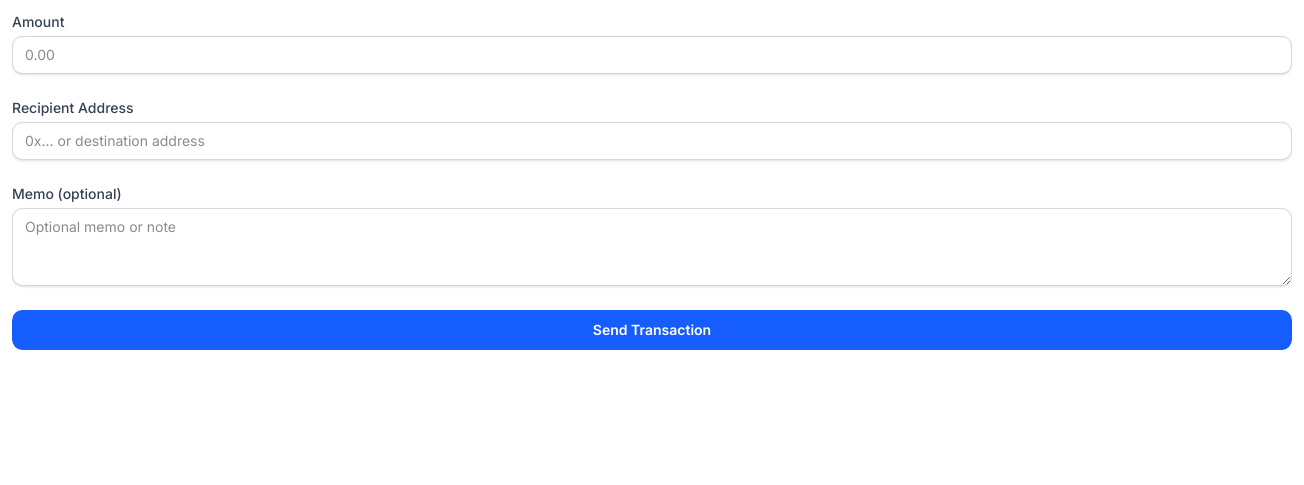
Test: TransactionForm › shows amount validation error on blur
In the field labelled "Amount": [652, 55] box [12,36,1292,74], type "-5"
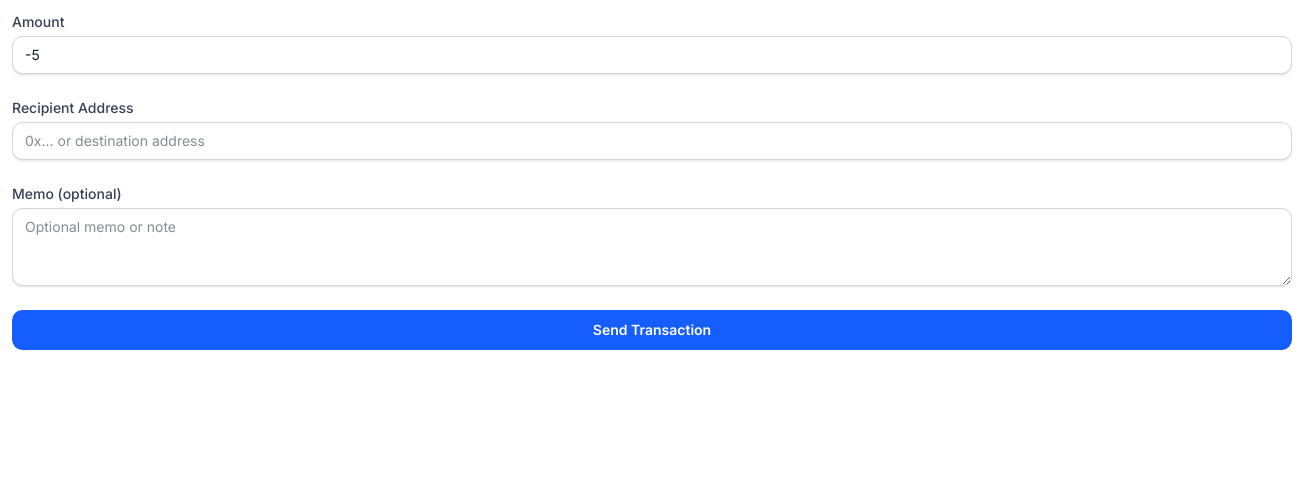
Leave the field labelled "Amount", box [12,36,1292,74]
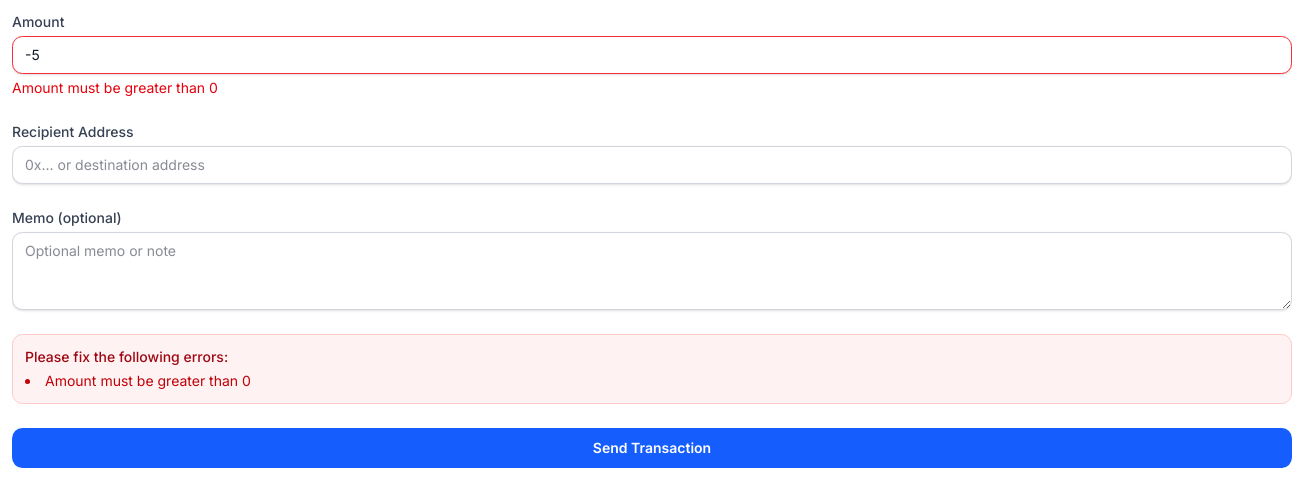
Now the text "Amount must be greater than 0" is shown 2 times, box [12,79,218,96]; [45,372,251,389]
